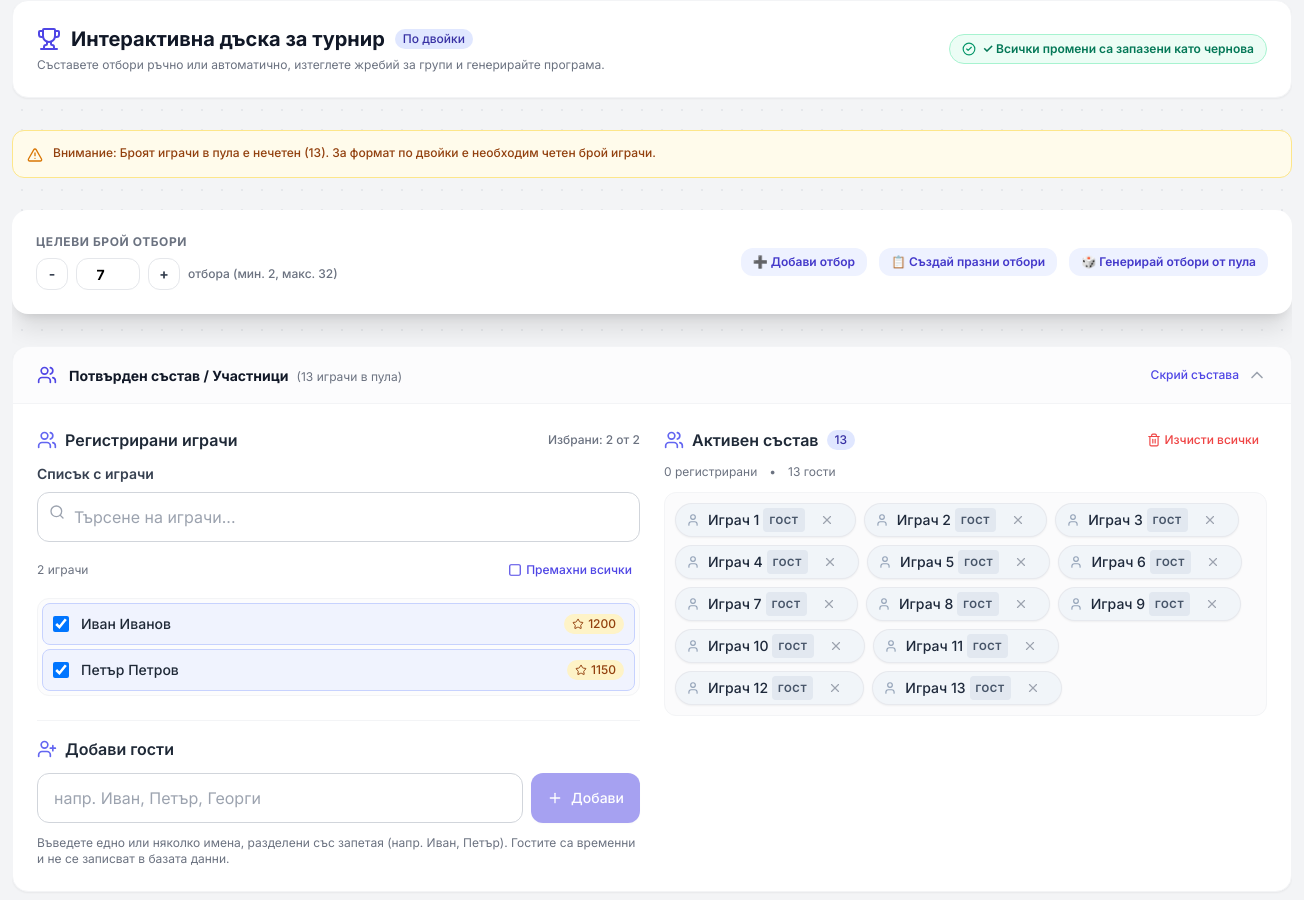
Test: TournamentInteractiveBoard Component › Universal Mathematical Validation & Auto-Adjustment › P = 13, T = 7 (Case 4): generates 7 teams with 1 team having 1 slot, shortage banner, clicking draw groups prunes to 6 teams, draws groups for 6 teams with adju
Click the button "🎲 Генерирай отбори от пула" at x=1169, y=262, box [1069, 248, 1268, 276]
(page scrolled)
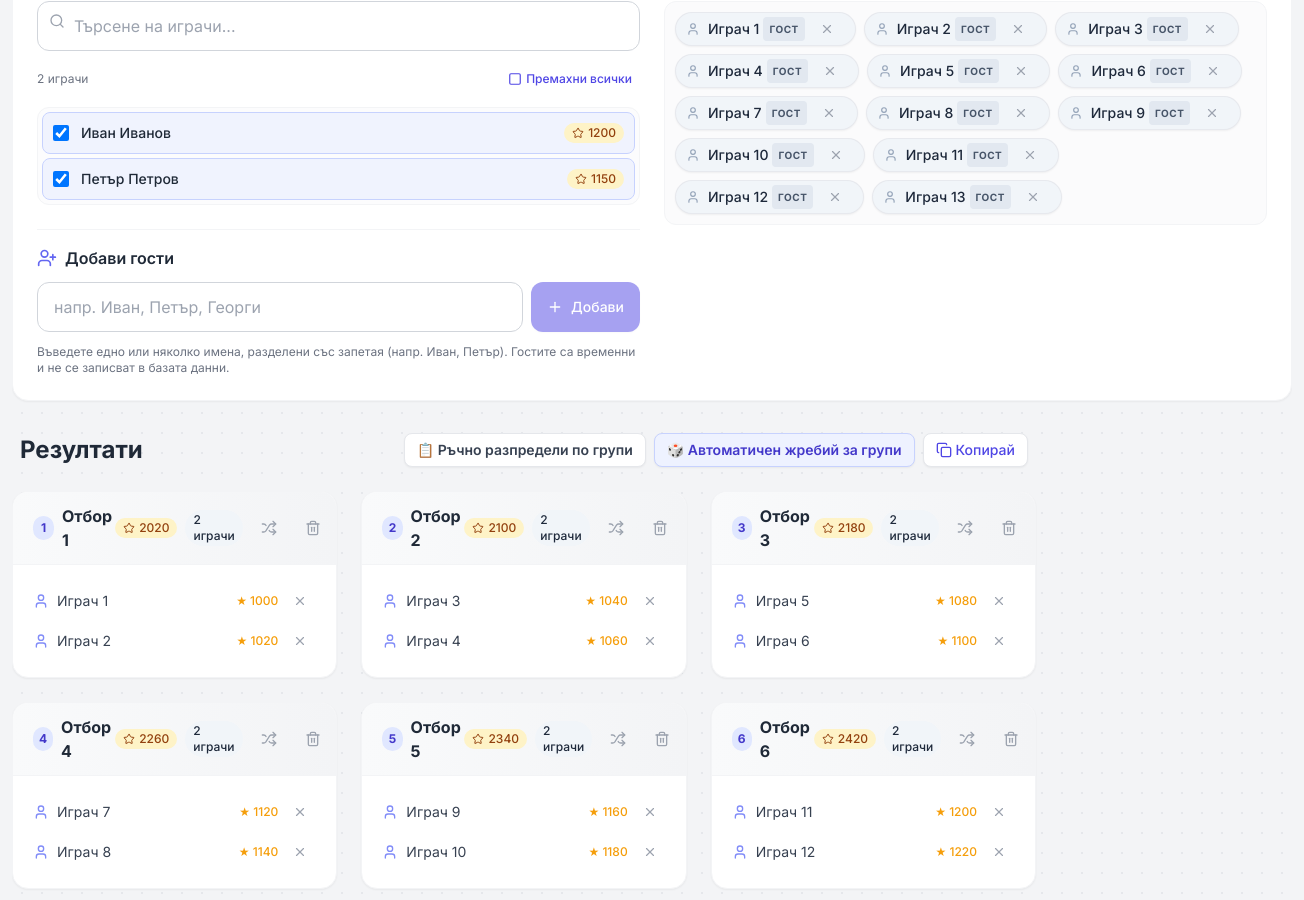
Check: the button "🎲 Автоматичен жребий за групи" is enabled
// Clicking draw groups prunes the incomplete team to 6 teams and draws groups!
Click the button "🎲 Автоматичен жребий за групи" at x=784, y=450, box [654, 433, 914, 467]
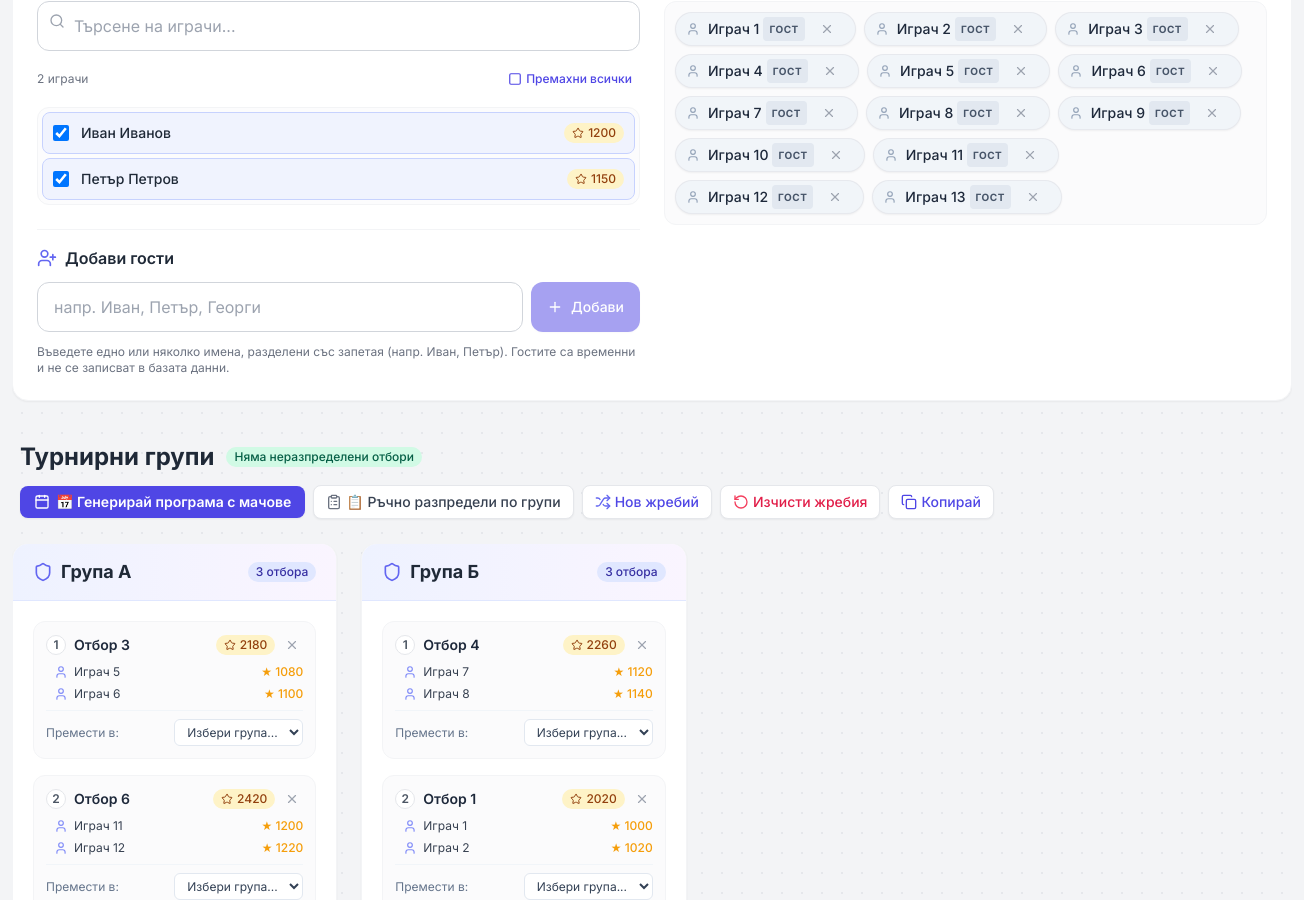
Check: the heading "Група А" is shown, box [33, 558, 132, 586]
Check: the heading "Група Б" is shown, box [382, 558, 479, 586]
